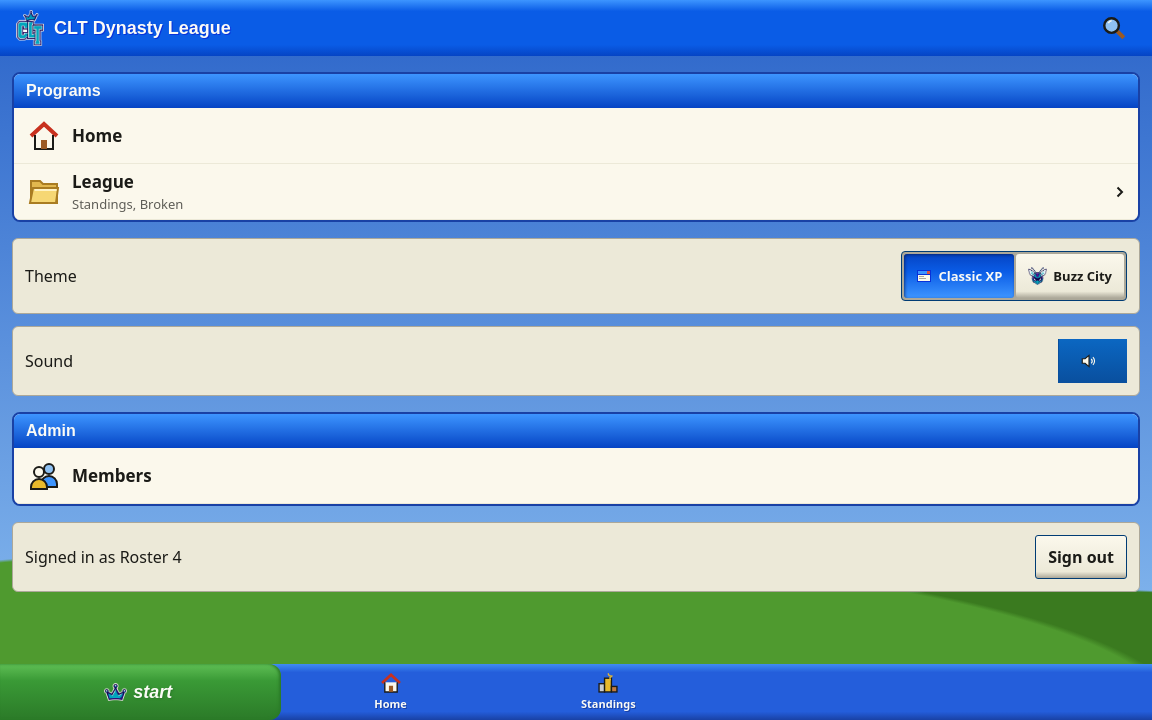
Test case: phone shell › lists Admin under an admin's account, apart from Programs
Expected: the text "Signed in as Roster 4" is shown, [25,545,182,569]
Click the button "Members" at (44, 476), box [14,448,1138,504]
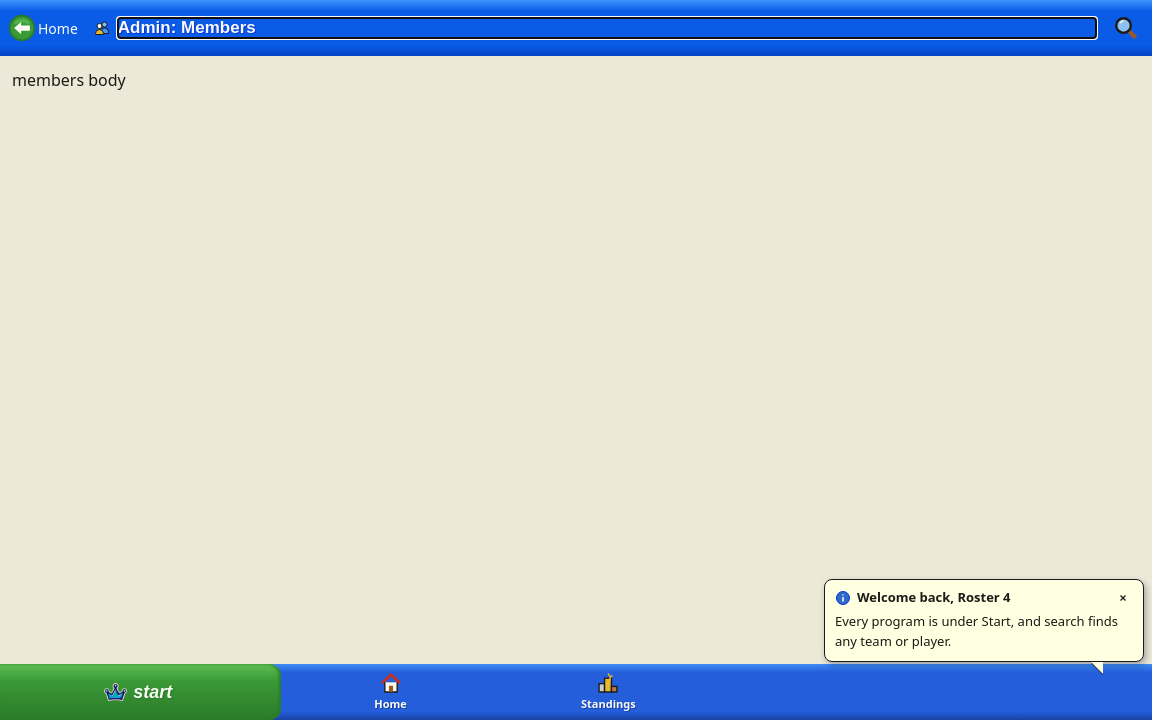
Now the heading reads "Admin: Members", box [118,18,256,37]
